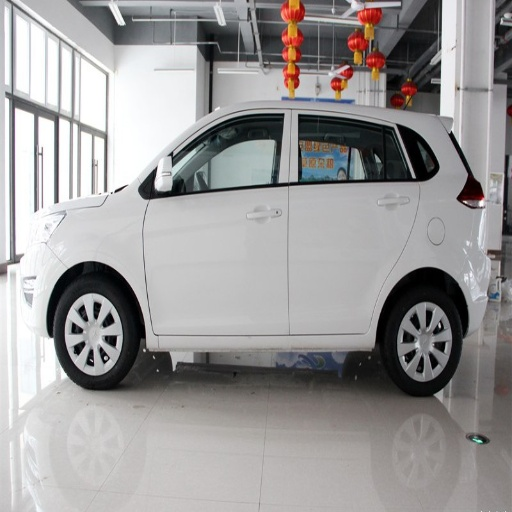back_left_door: (290, 110, 418, 334)
front_left_door: (143, 110, 290, 335)
